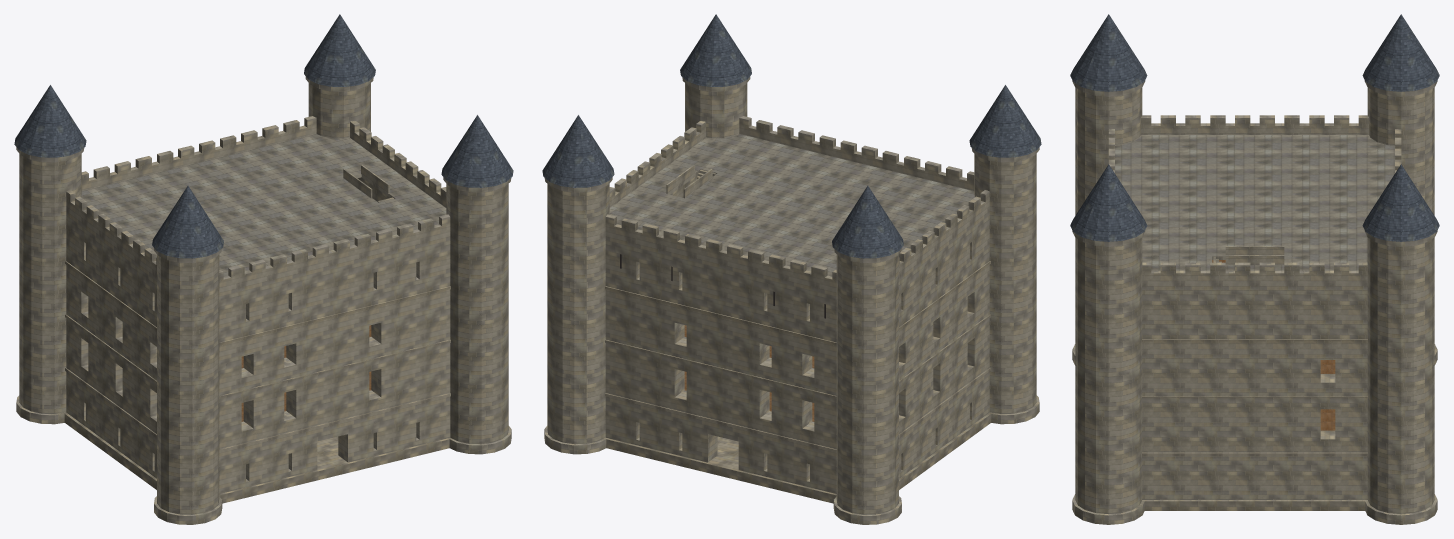
The model's file is fort-keep.fort-v1.lod0.glb.
The picture shows the model from 3 angles, left to right: view 1: azimuth 30°, elevation 25°; view 2: azimuth 150°, elevation 25°; view 3: azimuth 270°, elevation 25°; orthographic projection. The views are drawn at different scales.
Parts seen in each view (by area): view 1: fort-keep; view 2: fort-keep; view 3: fort-keep.
Part boxes in pixels (x1,y1,x2,y2): fort-keep: [14, 14, 513, 524]; fort-keep: [542, 14, 1041, 524]; fort-keep: [1070, 14, 1439, 524].
Size of the model in its own units: 41.4 by 36.5 by 35.4.
5 materials, 4 textured.
